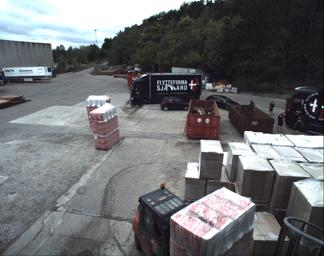rockwool_batts: (169, 185, 253, 255), (90, 104, 119, 148), (84, 94, 107, 110)
